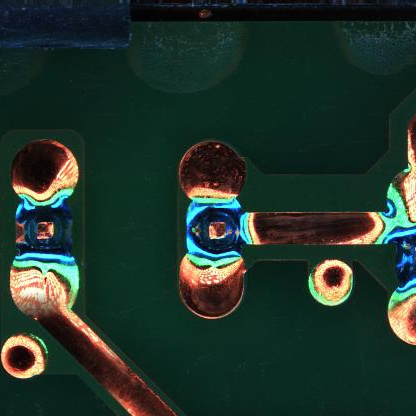spot: (185, 196, 244, 261), (13, 195, 72, 258)
